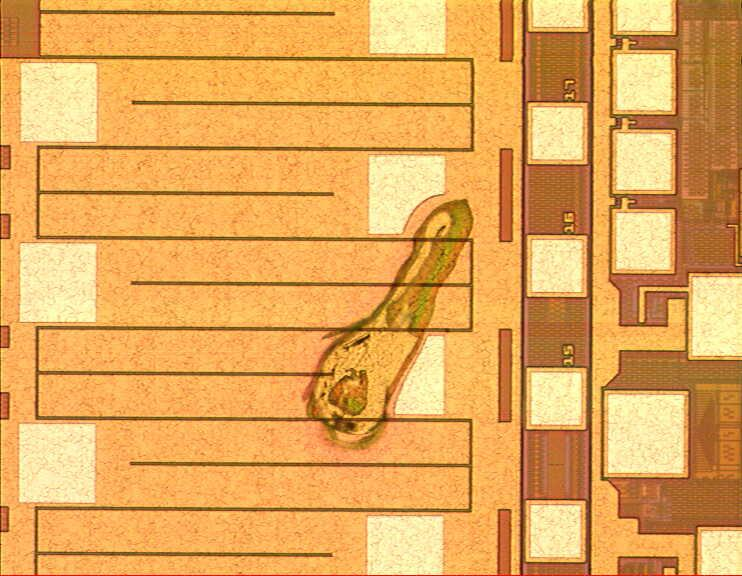BLOCK ETCH: (291, 188, 487, 461)
